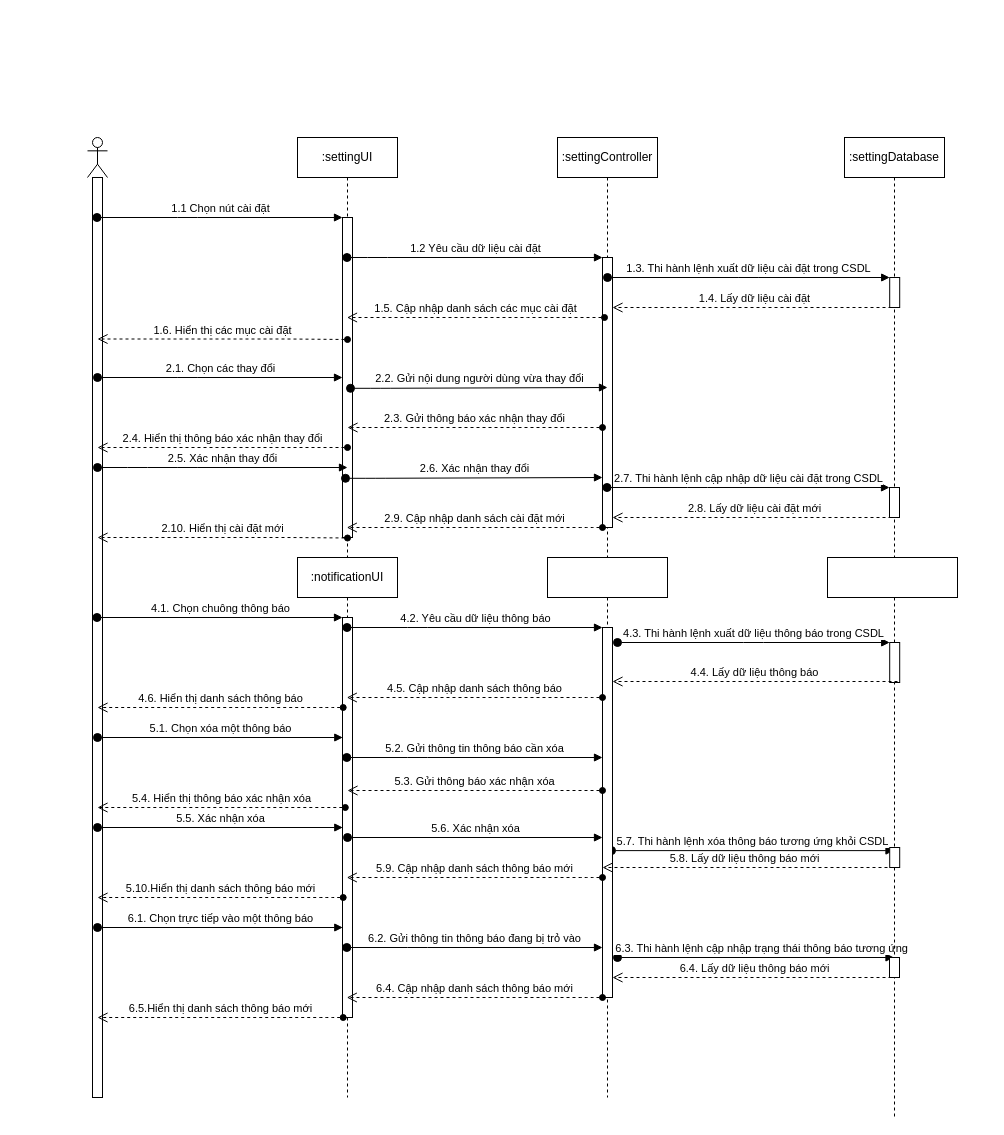
Image size: 1004x1135. Some labels were removed from this diagram. The centre of each missing label's shape, as x and y in pixels:
:notificationController: the point at 607,577
:notificationDatabase: the point at 892,577
